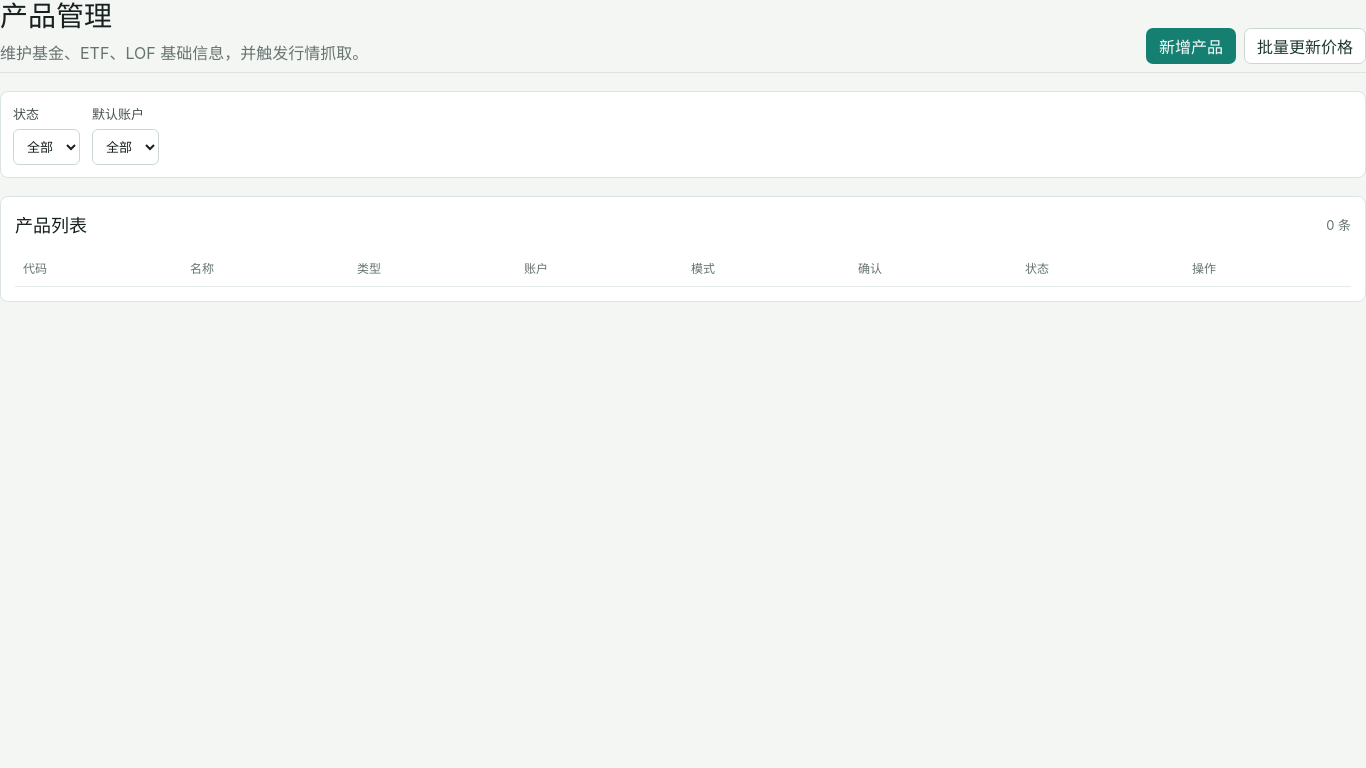
Test: create form buttons › opens the new instrument form in a small dialog after clicking the add button
Click the button "新增产品" at (1191, 46), box [1146, 28, 1236, 64]
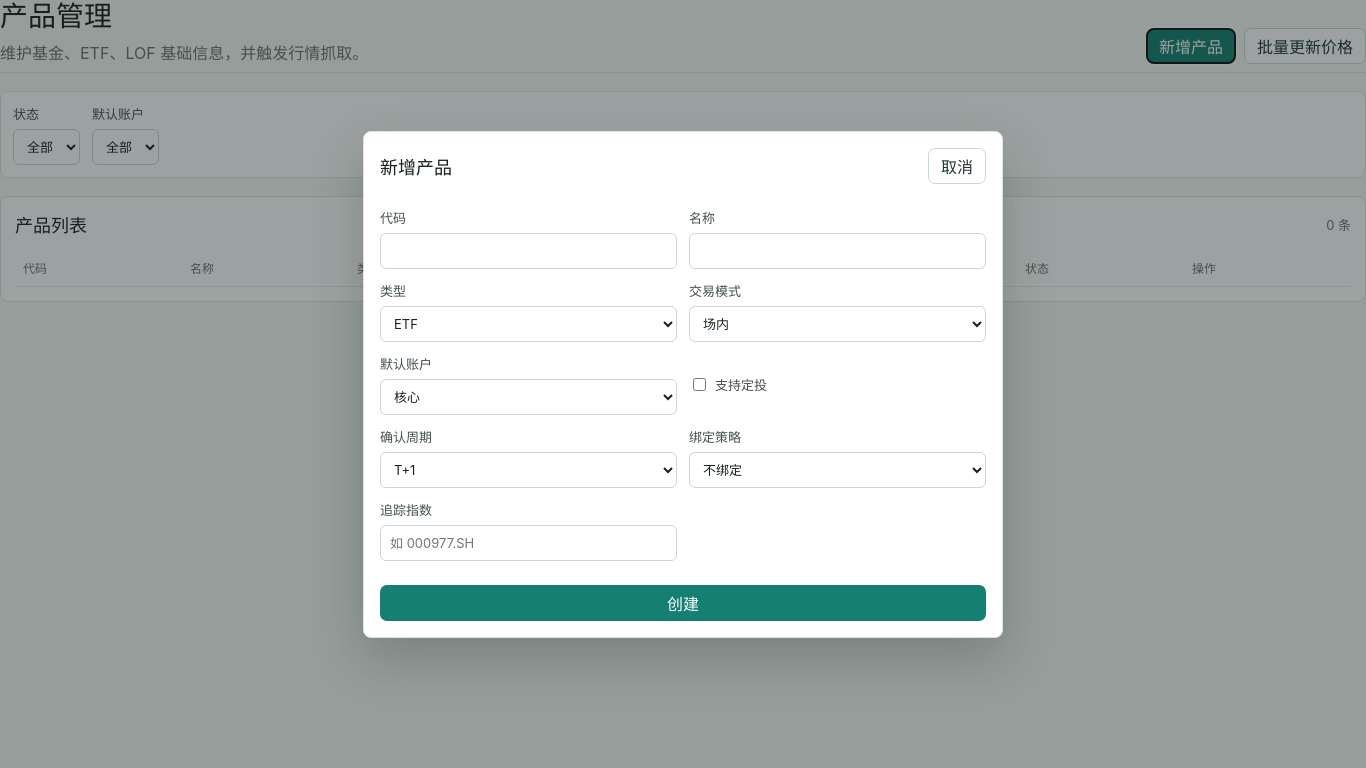
Now the field labelled "代码" is shown, box [380, 232, 677, 268]
Now the field labelled "名称" is shown, box [689, 232, 986, 268]
